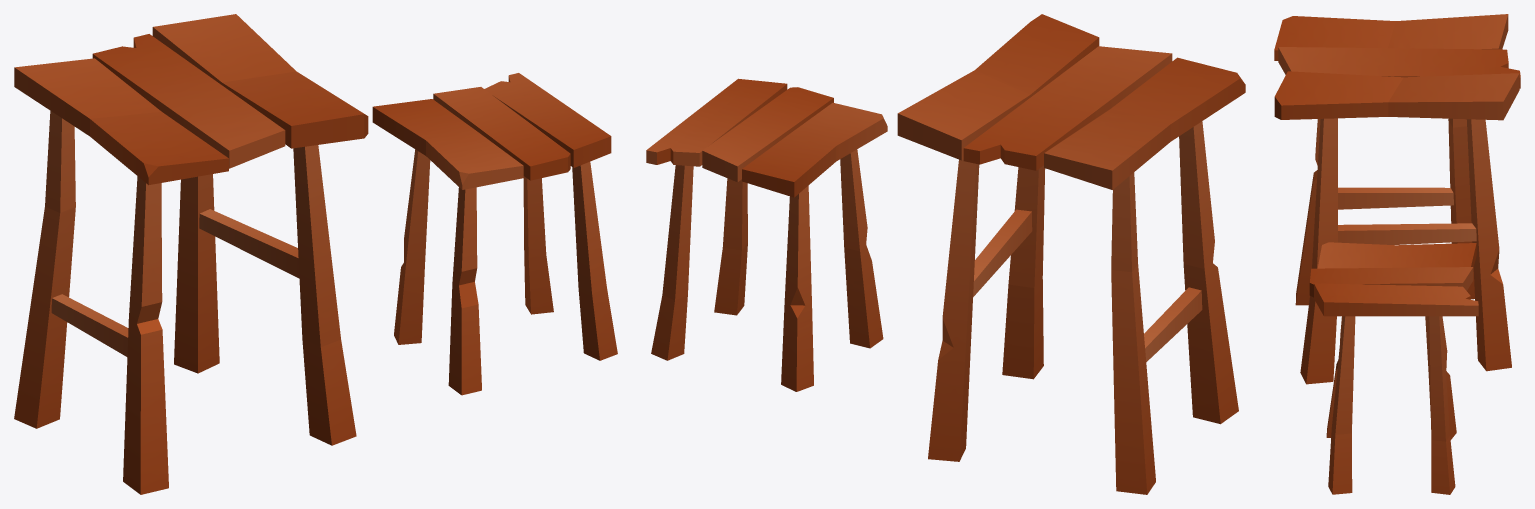
File: Platform.glb
The picture shows the model from 3 angles, left to right: view 1: azimuth 30°, elevation 25°; view 2: azimuth 150°, elevation 25°; view 3: azimuth 270°, elevation 25°; orthographic projection. The views are drawn at different scales.
Visible parts, largest first — view 1: Platform, Platform.001; view 2: Platform, Platform.001; view 3: Platform, Platform.001.
Boxes of the visible parts, x1=… form: Platform: x1=14, y1=14, x2=368, y2=494; Platform.001: x1=372, y1=73, x2=617, y2=395; Platform: x1=897, y1=14, x2=1245, y2=494; Platform.001: x1=646, y1=78, x2=887, y2=391; Platform: x1=1274, y1=14, x2=1520, y2=384; Platform.001: x1=1309, y1=242, x2=1478, y2=494.
Size of the model in its own units: 5.09 by 3.19 by 2.51.
Materials: 1 (1 with a texture image).
